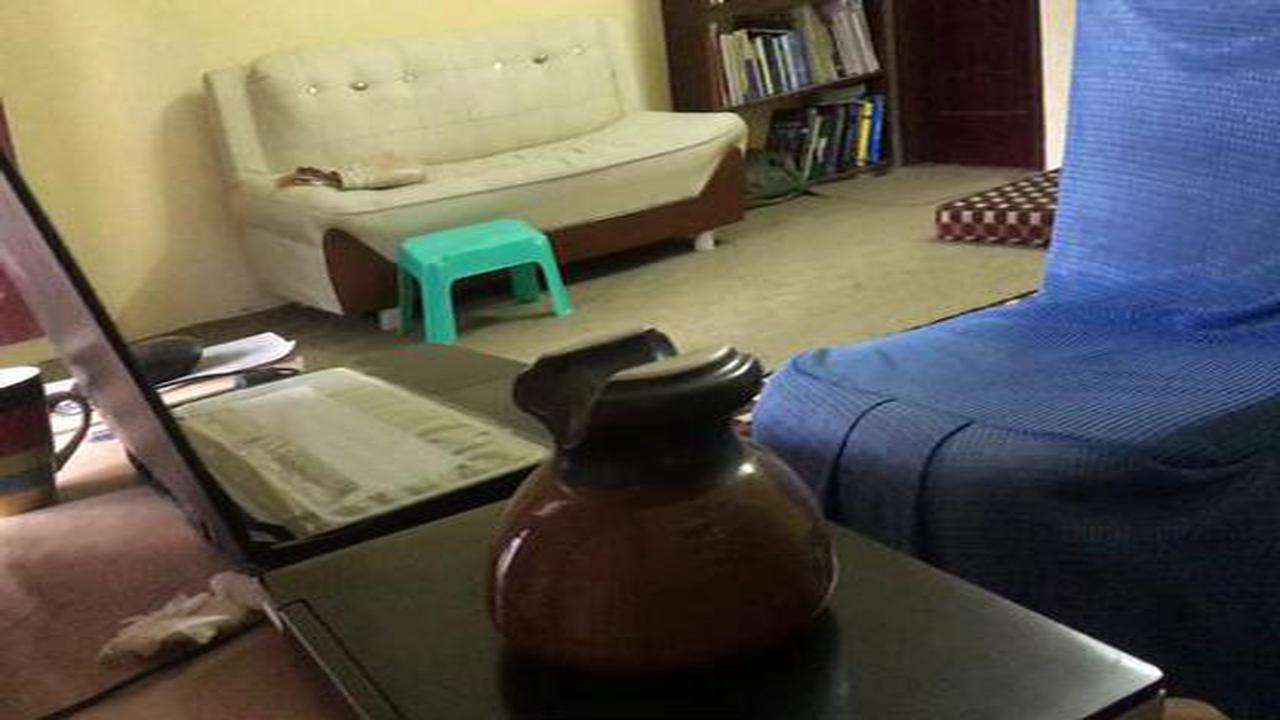insulator_pin: (474, 322, 850, 684)
